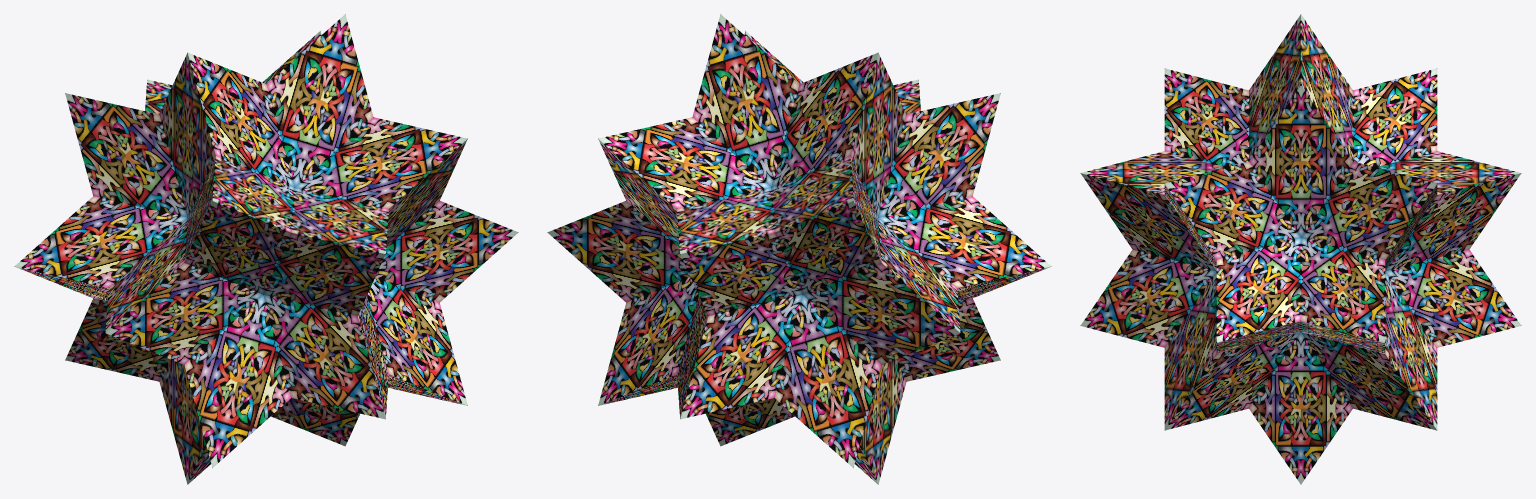
File: 33RhombicHexecontahedron.obj
The picture shows the model from 3 angles, left to right: view 1: azimuth 30°, elevation 25°; view 2: azimuth 150°, elevation 25°; view 3: azimuth 270°, elevation 25°; orthographic projection. The views are drawn at different scales.
Size of the model in its own units: 4.45 by 4.45 by 4.45.
1 material, 1 textured.
